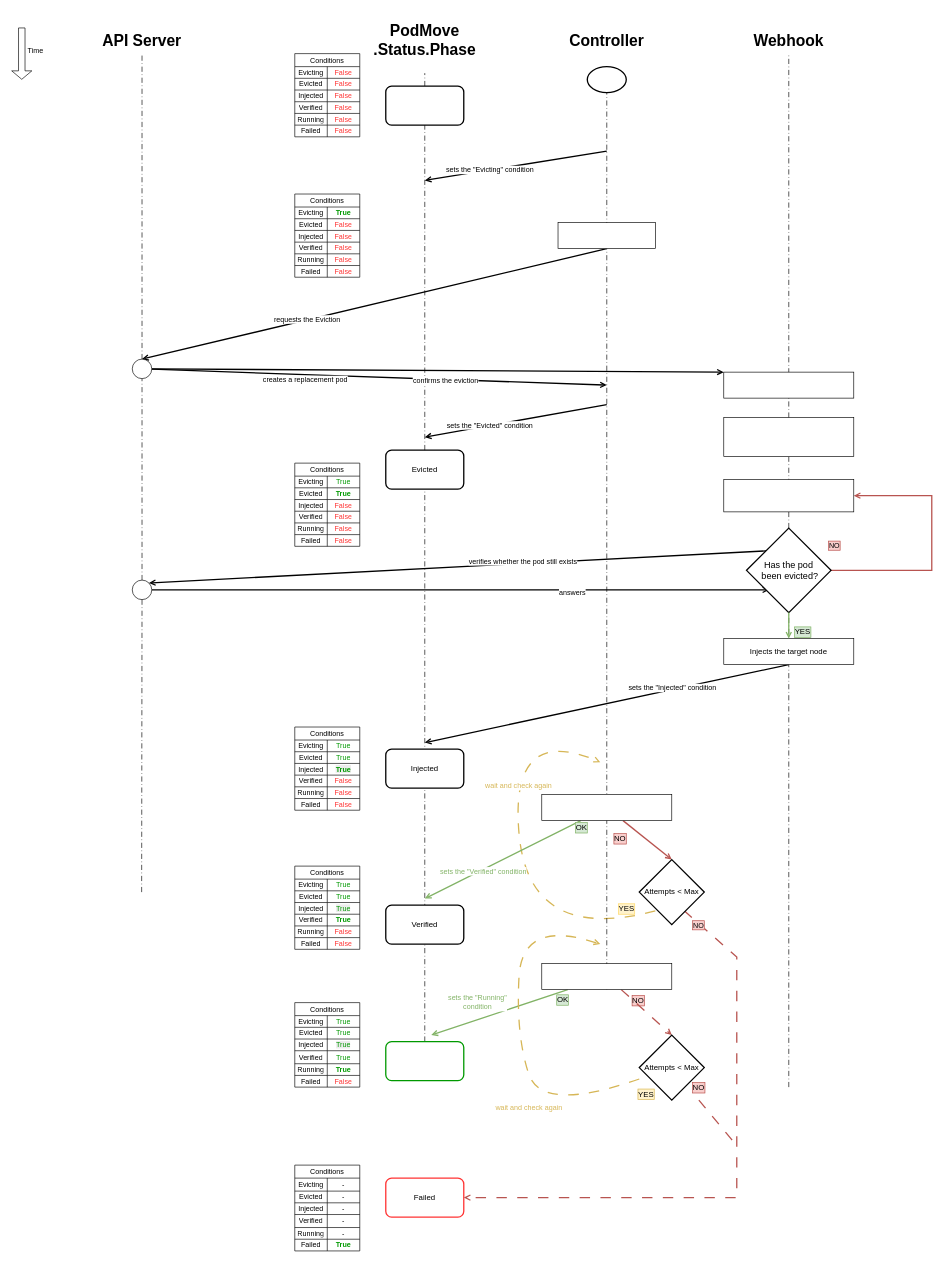
Image size: 948x1262. Some labels were removed from this diagram. The centre of each missing label's shape, as x and y in pixels:
Evicts the Pod: (x=606, y=235)
Pending: (x=424, y=105)
Receives a Pod Create request: (x=788, y=384)
Retrieves PodMoves for the specific pod owner with "Evicting" = True: (x=788, y=437)
Select a PodMove from the list: (x=788, y=495)
Succede d: (x=424, y=1061)
Verifies the replacement pod persisted on the target Node: (x=606, y=807)
Verifies the replacement pod status on the target Node is "Running": (x=606, y=976)
